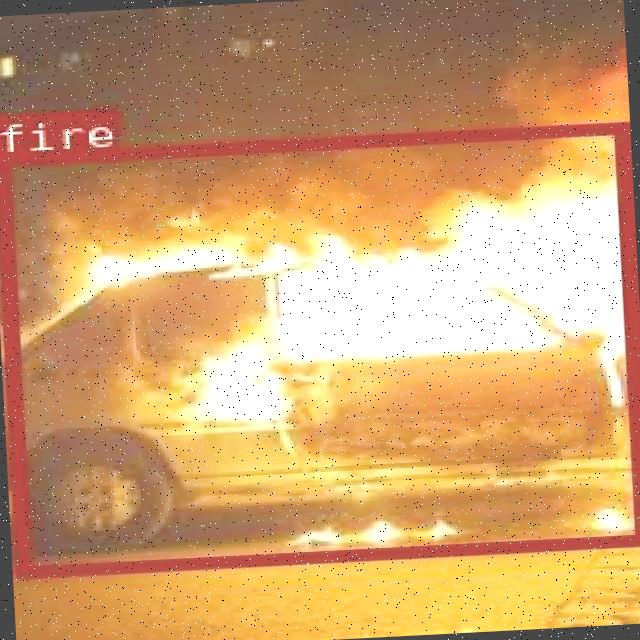fire: (0, 121, 640, 574)
